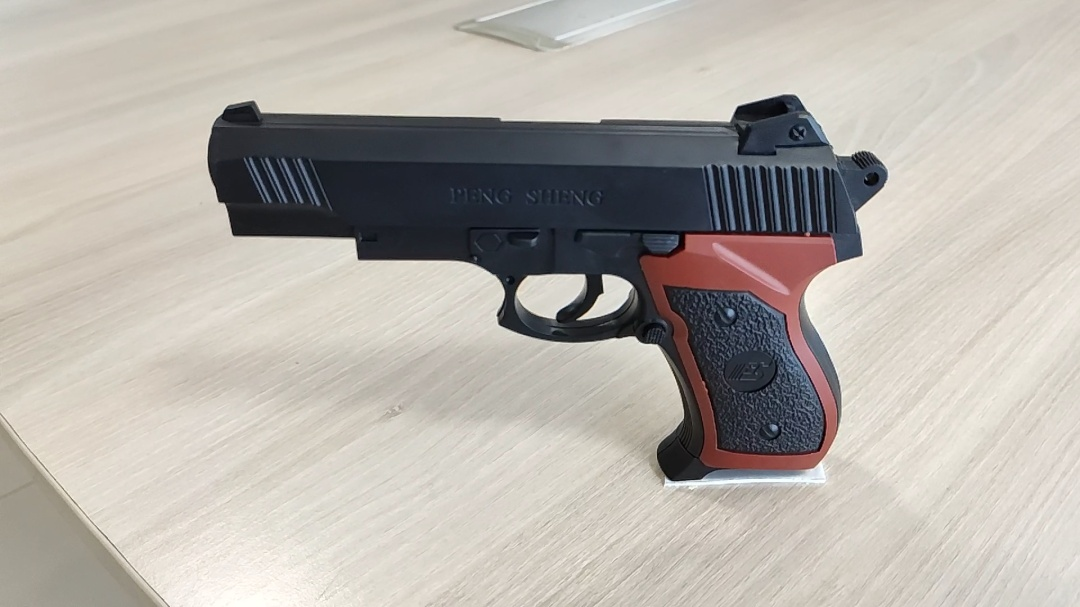gun: (336, 233, 378, 297)
